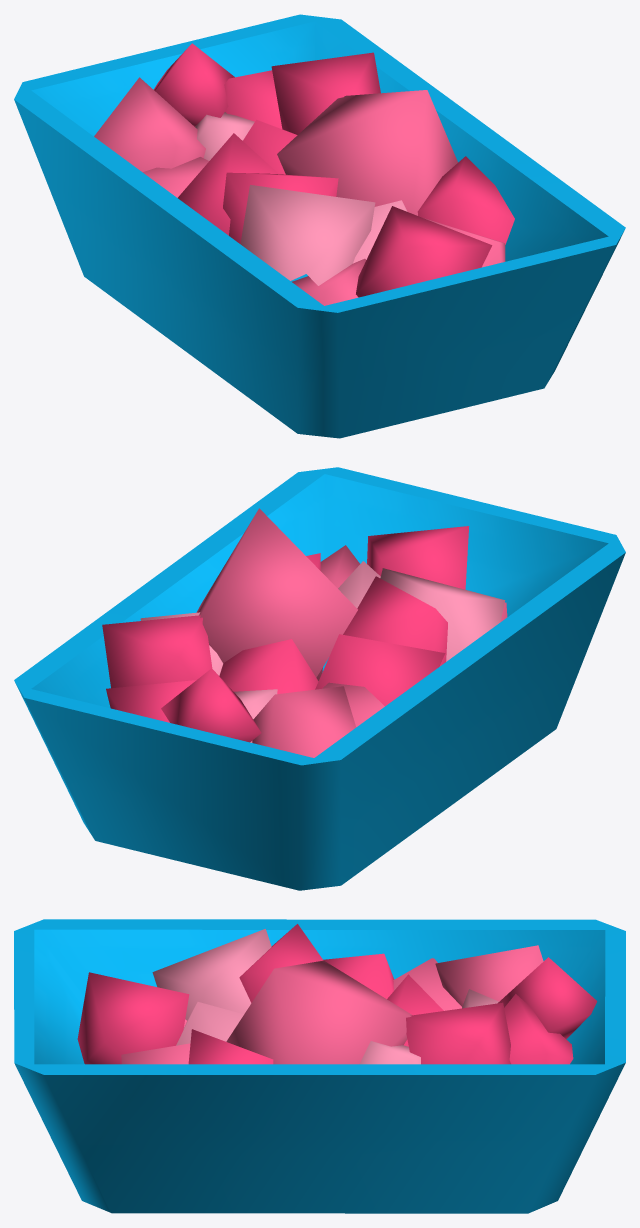
Rendered from shop_064.glb.
3 views of the same model, one above another, from view 1: azimuth 30°, elevation 25°; view 2: azimuth 150°, elevation 25°; view 3: azimuth 270°, elevation 25° (orthographic). The views are drawn at different scales.
Visible parts, largest first — view 1: shop_064; view 2: shop_064; view 3: shop_064.
Part boxes in pixels (x1=…): shop_064: x1=14, y1=14, x2=625, y2=438; shop_064: x1=14, y1=467, x2=625, y2=890; shop_064: x1=14, y1=919, x2=625, y2=1213.
Size of the model in its own units: 0.1028 by 0.069 by 0.1709.
Materials: 1 (1 with a texture image).
